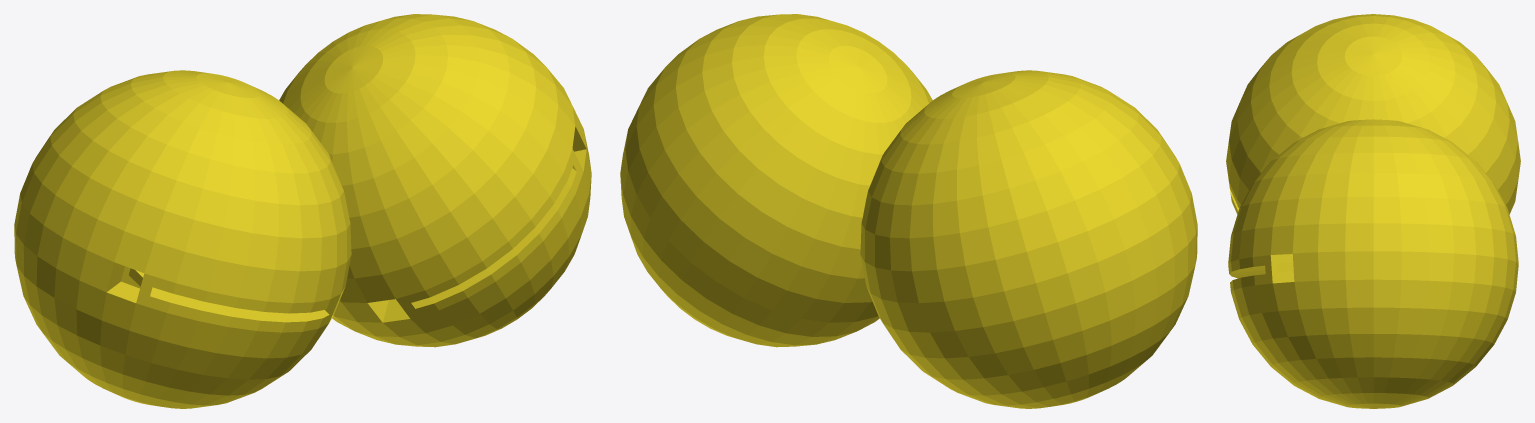
Rendered from shoe_3.fbx.
The picture shows the model from 3 angles, left to right: view 1: azimuth 30°, elevation 25°; view 2: azimuth 150°, elevation 25°; view 3: azimuth 270°, elevation 25°; orthographic projection. The views are drawn at different scales.
Parts seen in each view (by area): view 1: Sphere, Sphere.001; view 2: Sphere, Sphere.001; view 3: Sphere.001, Sphere.
Part boxes in pixels (x1,y1,x2,y2): Sphere: (14, 70, 351, 408); Sphere.001: (279, 14, 591, 347); Sphere: (860, 70, 1197, 408); Sphere.001: (620, 14, 932, 347); Sphere.001: (1228, 119, 1518, 408); Sphere: (1226, 14, 1520, 214).
Bounding box in the file's own units: 98.05 × 53.85 × 53.99.
